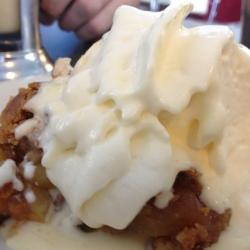apple_pie: (2, 92, 222, 248)
chantilly: (51, 15, 239, 163)
